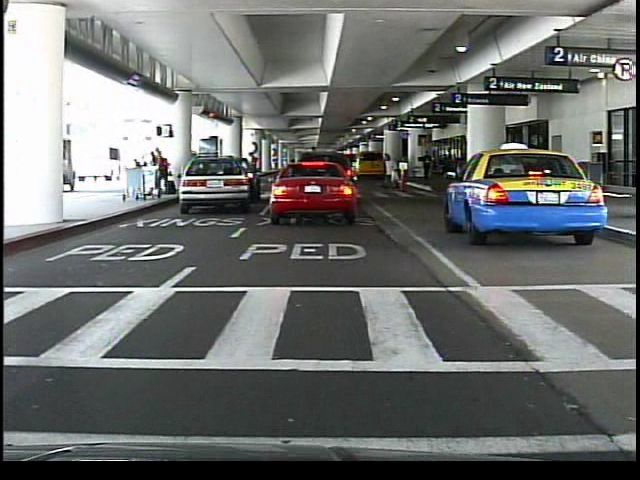person: (243, 150, 261, 202), (284, 157, 303, 206), (155, 147, 170, 196), (306, 152, 320, 202), (385, 150, 400, 188), (418, 148, 433, 183)
